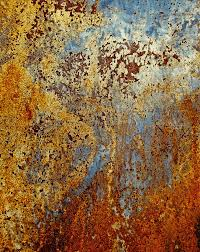rust: (1, 1, 94, 251), (91, 102, 200, 250)
